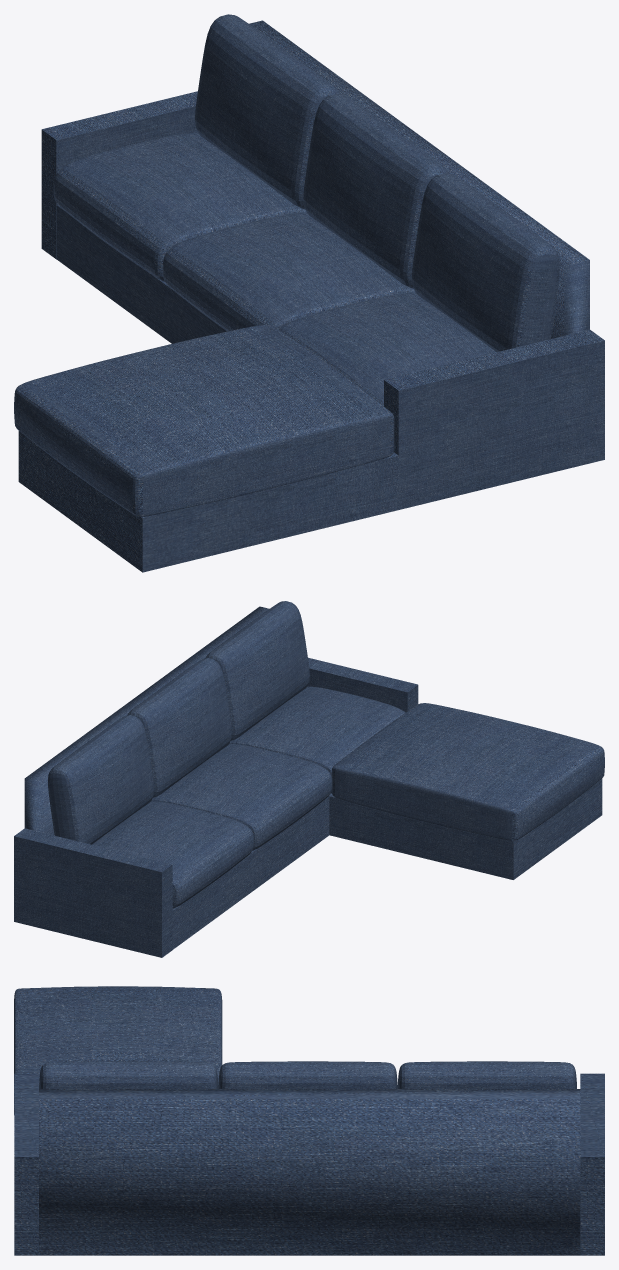
Rendered from simple_sofa.glb.
The picture shows the model from 3 angles, top to bottom: view 1: azimuth 30°, elevation 25°; view 2: azimuth 150°, elevation 25°; view 3: azimuth 270°, elevation 25°; orthographic projection. The views are drawn at different scales.
Visible parts, largest first — view 1: Cube.014, Cube.016, Cube.030, Cube.028, Cube.031, Cube.029; view 2: Cube.016, Cube.014, Cube.030, Cube.028, Cube.031, Cube.029; view 3: Cube.028, Cube.030, Cube.014.
Boxes of the visible parts, x1,y1,x2,y2 form: Cube.014: (195,14,559,352); Cube.016: (53,132,496,406); Cube.030: (14,325,394,516); Cube.028: (41,20,604,509); Cube.031: (18,431,398,572); Cube.029: (56,205,226,343); Cube.016: (92,686,405,908); Cube.014: (48,601,309,844); Cube.030: (332,703,604,840); Cube.028: (14,606,418,957); Cube.031: (329,778,602,879); Cube.029: (172,793,331,949); Cube.028: (14,1073,604,1255); Cube.030: (14,986,222,1114); Cube.014: (39,1061,576,1089).
Size of the model in its own units: 183 by 77.95 by 240.
Materials: 1 (1 with a texture image).
